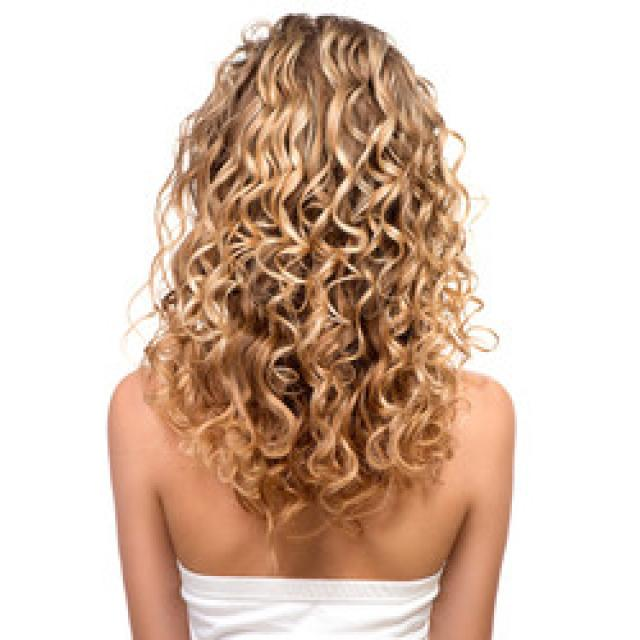Nonhelmet: (155, 0, 462, 327)
